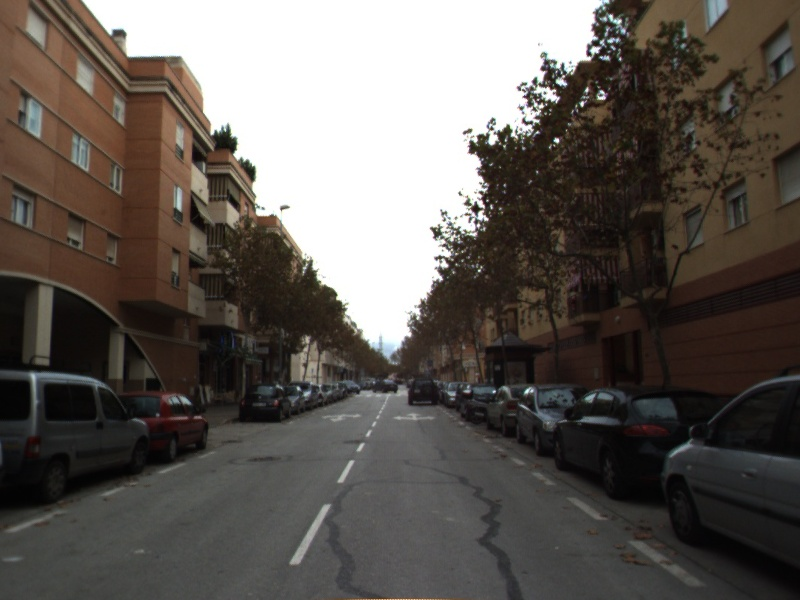STRAIGHT_LEFT_RIGHT: (390, 410, 438, 423)
